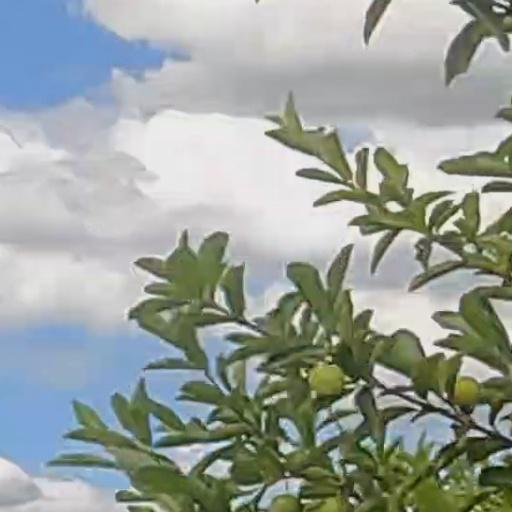acerola_verde: (310, 365, 343, 397), (454, 379, 479, 404), (269, 495, 299, 512)
